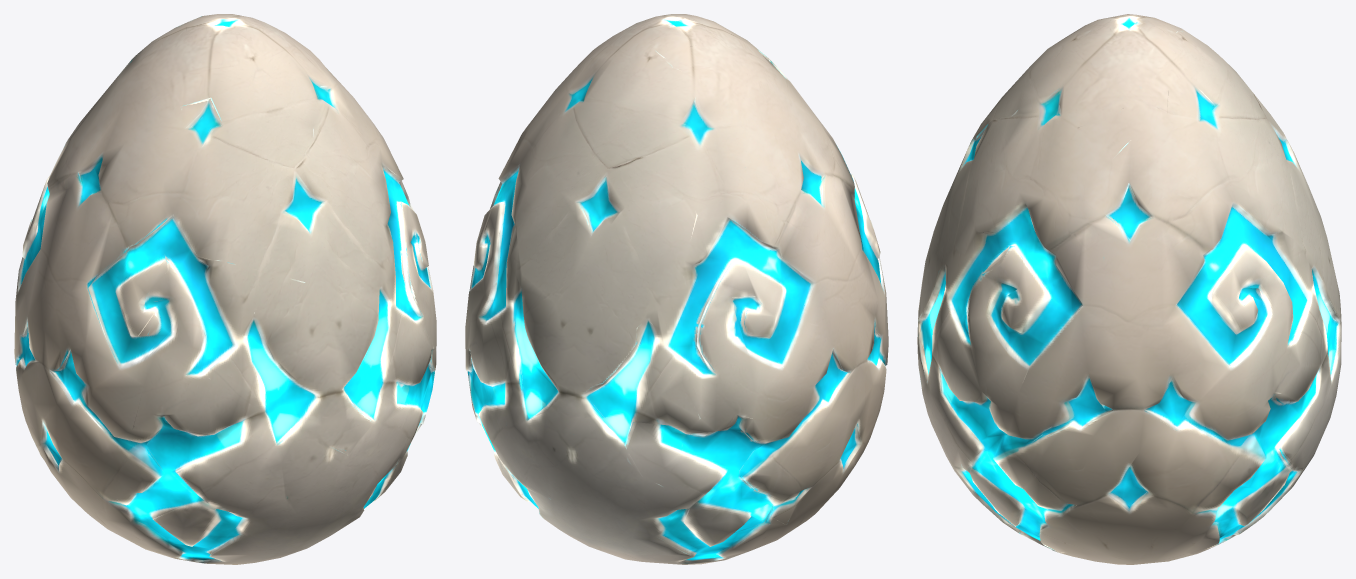
File: Meshy_AI_Azure_Crystal_Egg_0619052654_texture.fbx
3 renders of one model, left to right at view 1: azimuth 30°, elevation 25°; view 2: azimuth 150°, elevation 25°; view 3: azimuth 270°, elevation 25°, orthographic.
Visible parts, largest first — view 1: Mesh1.0; view 2: Mesh1.0; view 3: Mesh1.0.
Part boxes in pixels (box(x1,y1,x2,y2)): Mesh1.0: box(14, 14, 436, 564); Mesh1.0: box(465, 14, 888, 564); Mesh1.0: box(917, 14, 1341, 564).
Size of the model in its own units: 140 by 191 by 140.
Materials: 1 (1 with a texture image).
